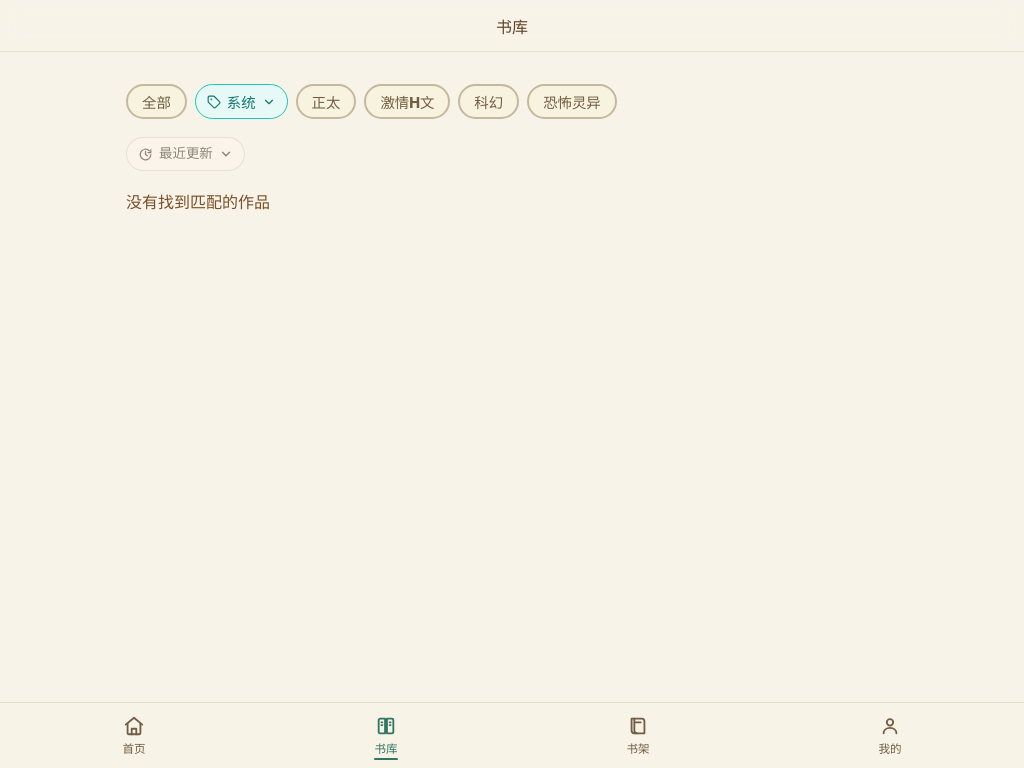
Scenario: BooksPage categories › switches sub-categories, closes the panel, and updates the query
The width and height of the screenshot is (1024, 768).
Click the button "系统" at (241, 102), box [195, 84, 288, 119]
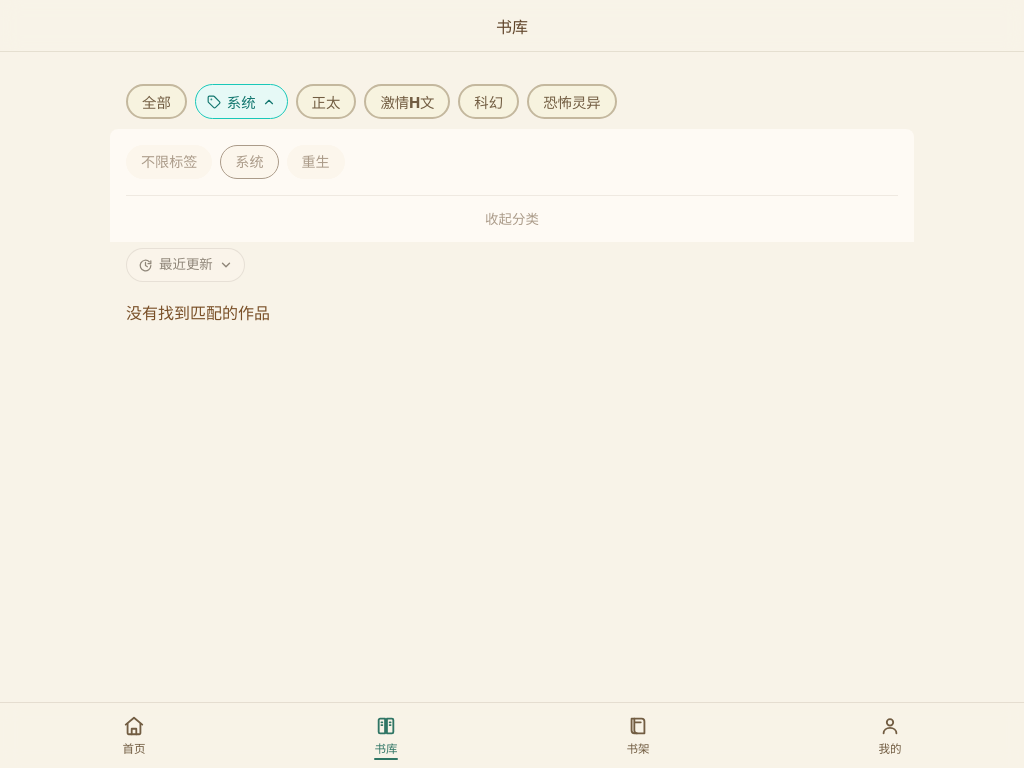
Click the button "重生" at (316, 162), box [286, 145, 345, 179]
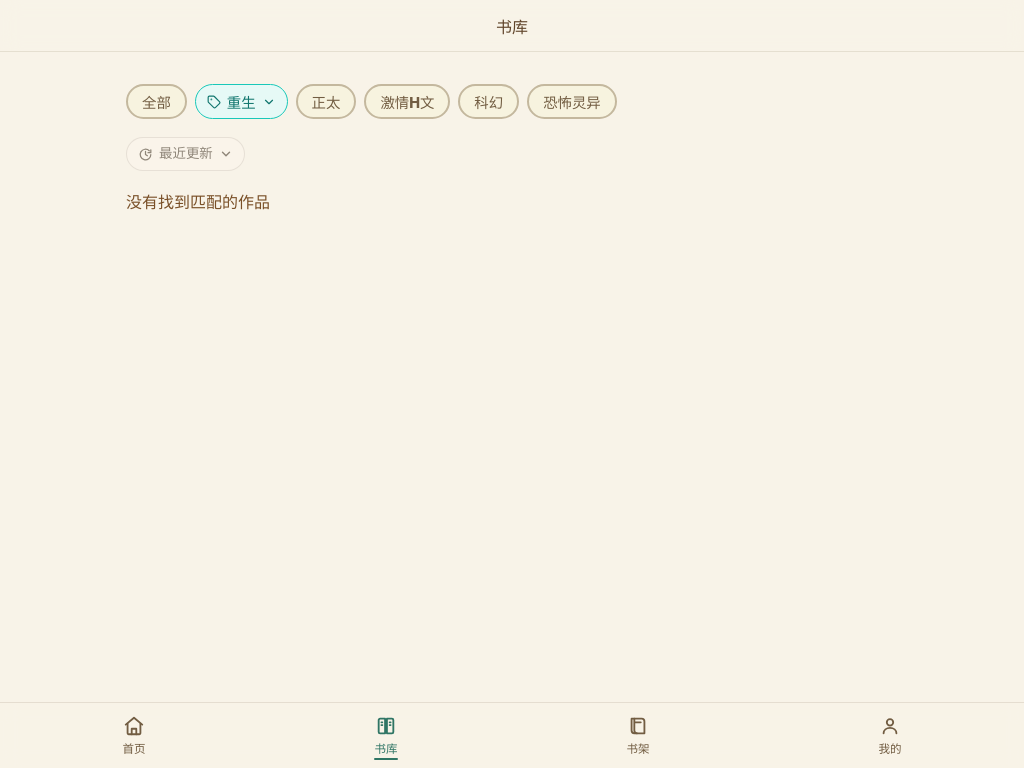
Expected: the navigation bar "副分类" is gone
